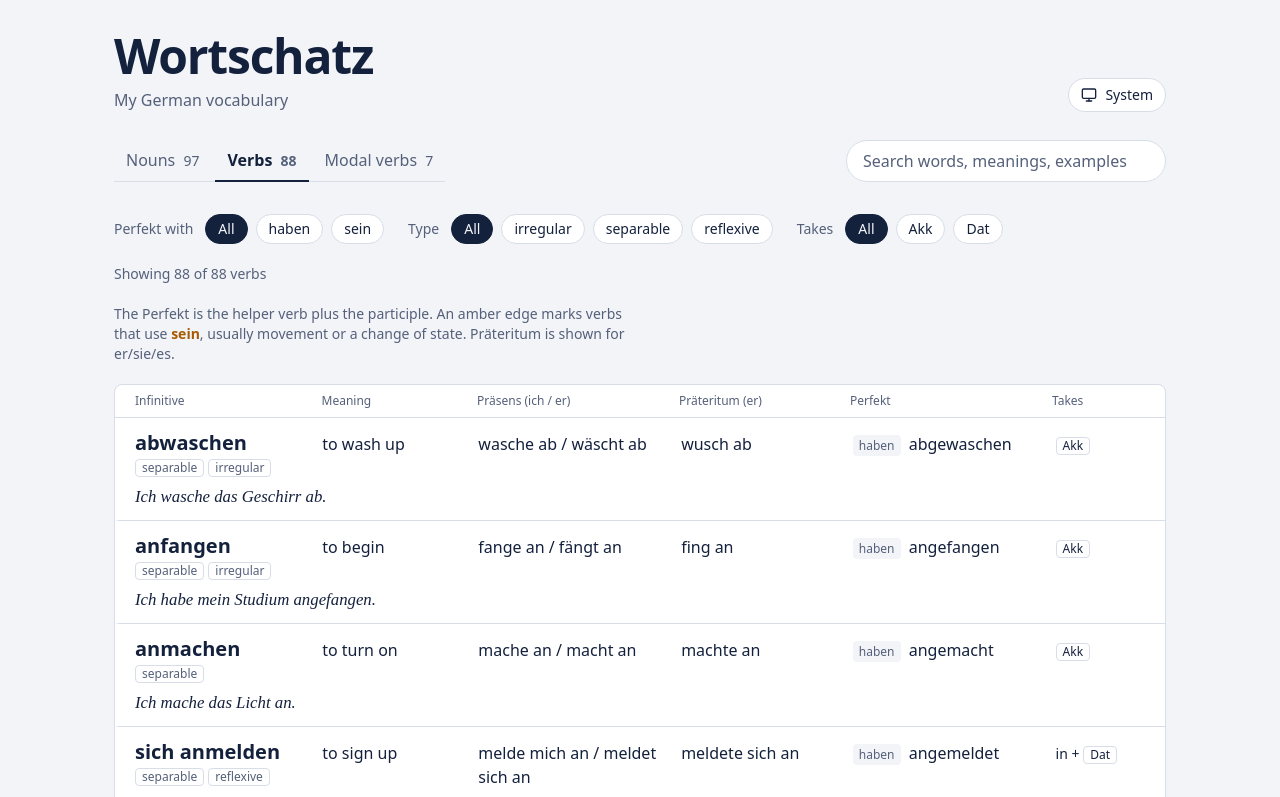
it: VocabPage › renders verbs and filters them by auxiliary
Step 1. Click the button "sein" → (358,229), box [331, 214, 384, 244]
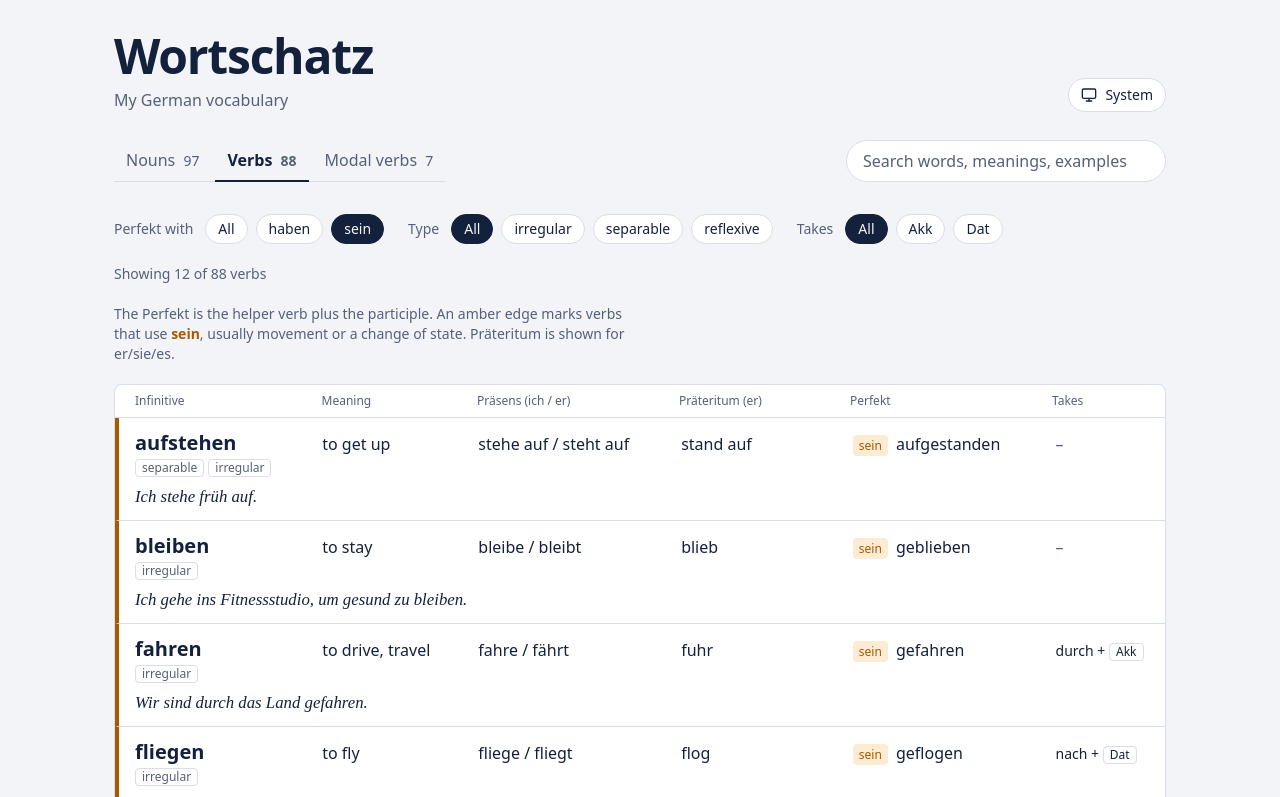
Expected: the text "fliegen" is shown, [135, 738, 204, 765]
Expected: the text "Showing 88 of 88" is gone
